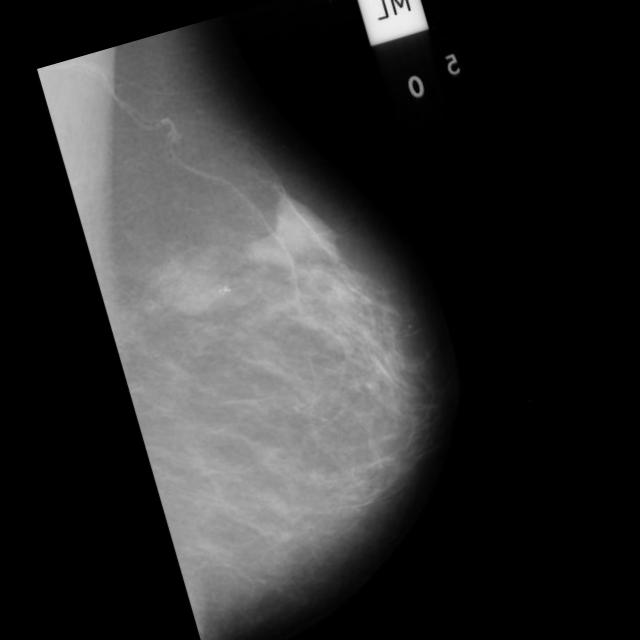CALC: (216, 282, 232, 298)
